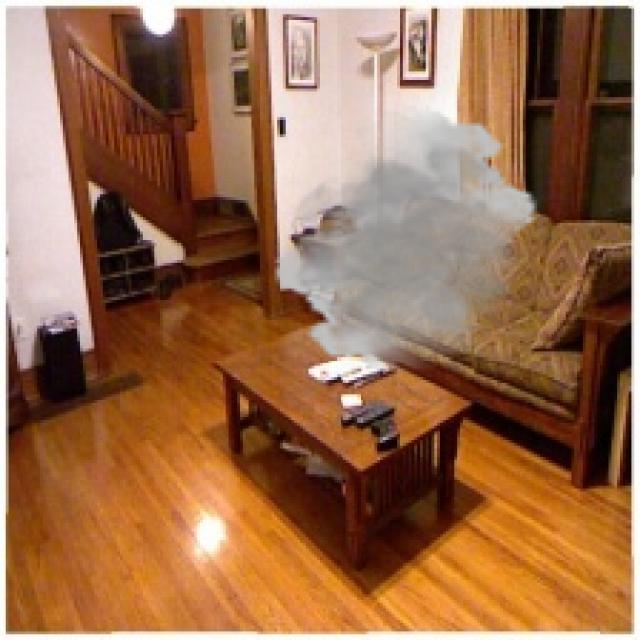smoke: (271, 106, 540, 374)
